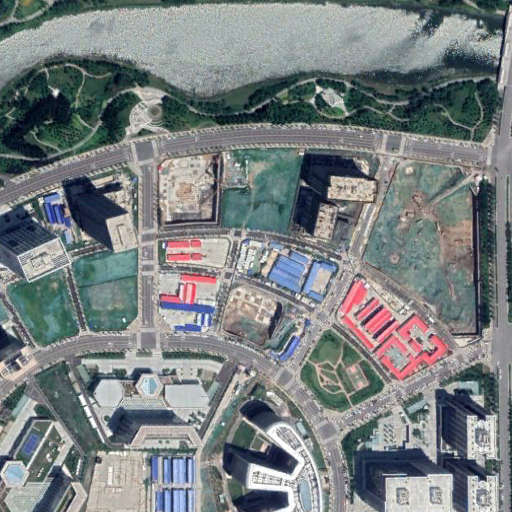cw: (361, 161, 479, 333), (6, 240, 149, 355), (211, 138, 306, 237)
